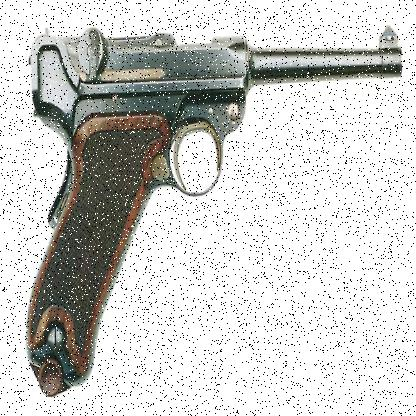pistol: (18, 23, 401, 390)
